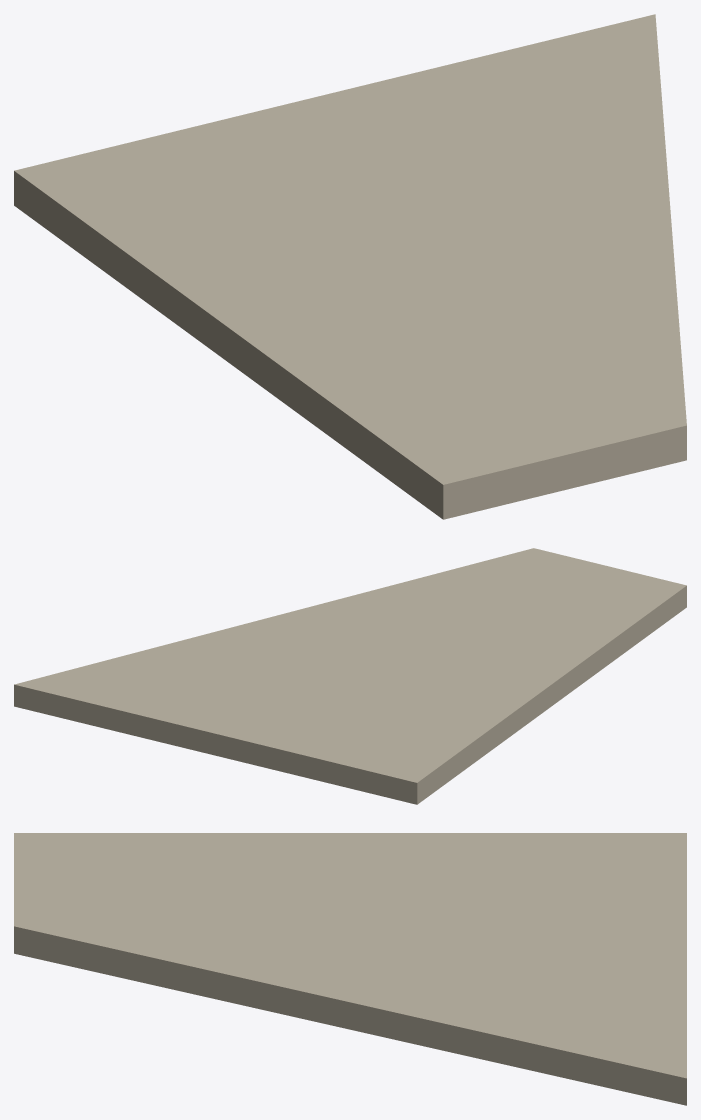
The picture shows the model from 3 angles, top to bottom: view 1: azimuth 30°, elevation 25°; view 2: azimuth 150°, elevation 25°; view 3: azimuth 270°, elevation 25°; orthographic projection. The views are drawn at different scales.
Visible parts, largest first — view 1: B-FF-BALCONY-4; view 2: B-FF-BALCONY-4; view 3: B-FF-BALCONY-4.
Part boxes in pixels (box(x1,y1,x2,y2)): B-FF-BALCONY-4: box(14, 14, 686, 519); B-FF-BALCONY-4: box(14, 548, 686, 804); B-FF-BALCONY-4: box(14, 833, 686, 1105).
Size of the model in its own units: 3.08 by 0.16 by 3.57.
